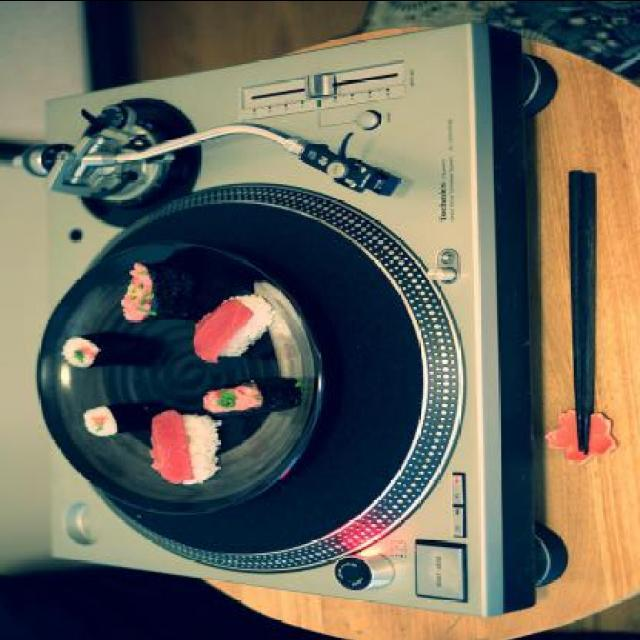Cake: (192, 294, 270, 364), (150, 408, 216, 486), (119, 264, 187, 322), (205, 374, 307, 412), (61, 336, 118, 367), (86, 404, 136, 436)
